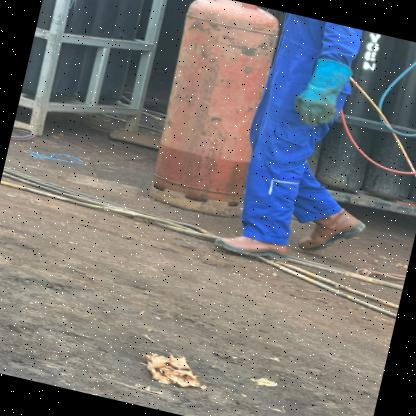bota: (294, 198, 379, 265), (216, 216, 296, 268)
